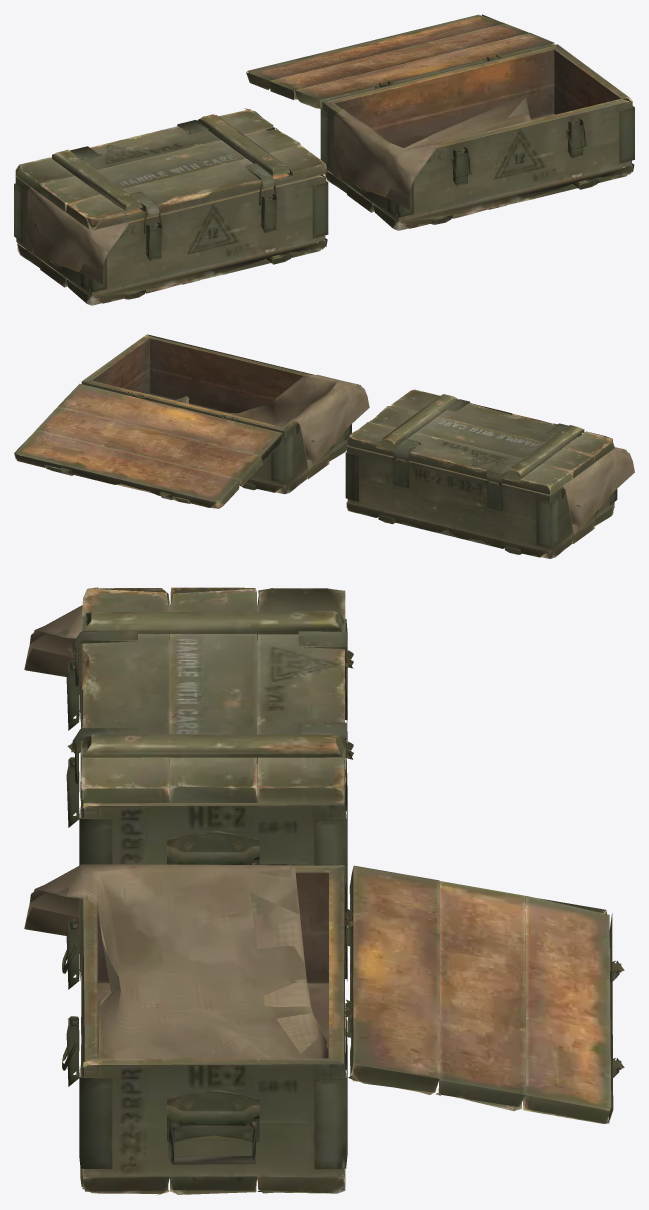
Rendered from old_military_crate.glb.
The picture shows the model from 3 angles, top to bottom: view 1: azimuth 30°, elevation 25°; view 2: azimuth 150°, elevation 25°; view 3: azimuth 270°, elevation 25°; orthographic projection. The views are drawn at different scales.
Visible parts, largest first — view 1: old_military_crate_b, old_military_crate_lid_a, old_military_crate_a, old_military_crate_lid_b, old_military_crate_cloth_b, old_military_crate_cloth_a, old_military_crate_latch_a, old_military_crate_latch_b; view 2: old_military_crate_lid_b, old_military_crate_lid_a, old_military_crate_a, old_military_crate_b, old_military_crate_cloth_b, old_military_crate_cloth_a; view 3: old_military_crate_lid_a, old_military_crate_lid_b, old_military_crate_b, old_military_crate_cloth_b, old_military_crate_a, old_military_crate_cloth_a, old_military_crate_latch_b, old_military_crate_latch_a.
Boxes of the visible parts, <box> form: old_military_crate_b: <box>320,44,634,230</box>; old_military_crate_lid_a: <box>15,108,327,230</box>; old_military_crate_a: <box>14,174,328,305</box>; old_military_crate_lid_b: <box>246,14,554,108</box>; old_military_crate_cloth_b: <box>334,95,531,209</box>; old_military_crate_cloth_a: <box>27,187,130,284</box>; old_military_crate_latch_a: <box>146,194,276,261</box>; old_military_crate_latch_b: <box>453,119,583,186</box>; old_military_crate_lid_b: <box>14,383,282,508</box>; old_military_crate_lid_a: <box>347,389,614,494</box>; old_military_crate_a: <box>345,445,617,558</box>; old_military_crate_b: <box>81,334,351,494</box>; old_military_crate_cloth_b: <box>174,374,369,470</box>; old_military_crate_cloth_a: <box>563,447,634,534</box>; old_military_crate_lid_a: <box>67,587,353,803</box>; old_military_crate_lid_b: <box>344,865,624,1123</box>; old_military_crate_b: <box>79,865,353,1195</box>; old_military_crate_cloth_b: <box>24,864,328,1058</box>; old_military_crate_a: <box>79,618,353,890</box>; old_military_crate_cloth_a: <box>24,605,171,798</box>; old_military_crate_latch_b: <box>66,919,79,1086</box>; old_military_crate_latch_a: <box>66,660,79,827</box>.
Bounding box in the file's own units: 1.81 × 0.3005 × 0.9802.
1 material, 1 textured.
